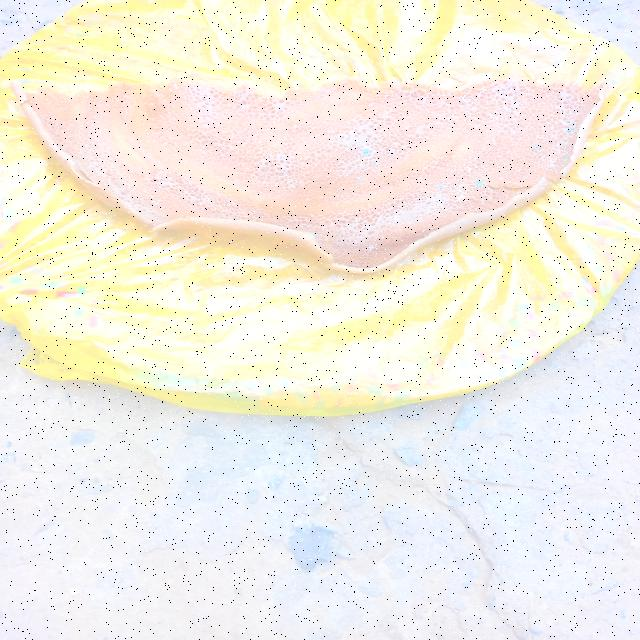injera_mold: (539, 154, 560, 171), (485, 110, 500, 124), (459, 92, 480, 102), (363, 242, 379, 254), (471, 178, 485, 186), (530, 144, 542, 152), (475, 86, 489, 92), (563, 127, 575, 133), (362, 148, 372, 155), (538, 136, 548, 143), (563, 154, 571, 162), (456, 195, 466, 201), (151, 200, 160, 206), (466, 166, 474, 171), (371, 159, 379, 164), (552, 144, 560, 149), (358, 177, 364, 182), (445, 168, 451, 172), (394, 217, 400, 220), (438, 186, 443, 189), (441, 200, 448, 202), (474, 166, 478, 168)
